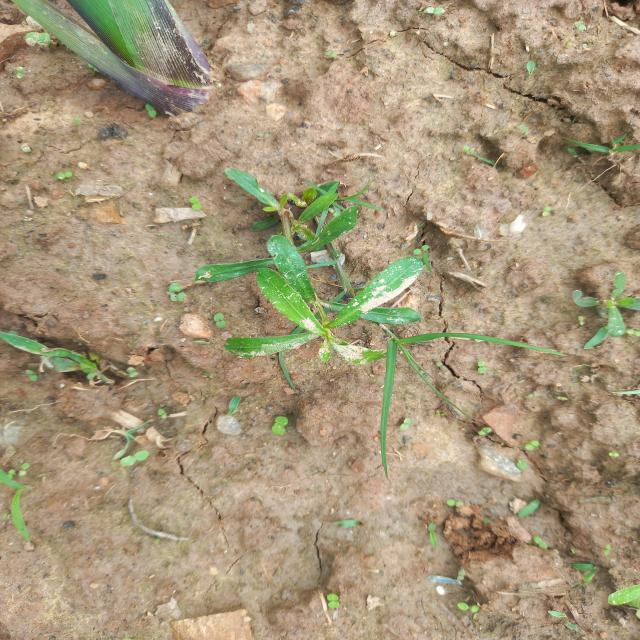weed: (177, 158, 491, 398), (0, 315, 124, 405), (565, 270, 640, 350)
